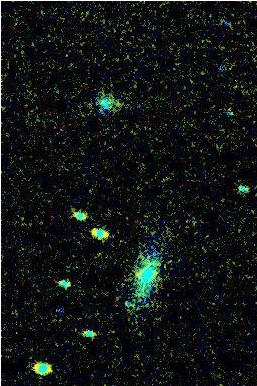star: (139, 250, 169, 280)
